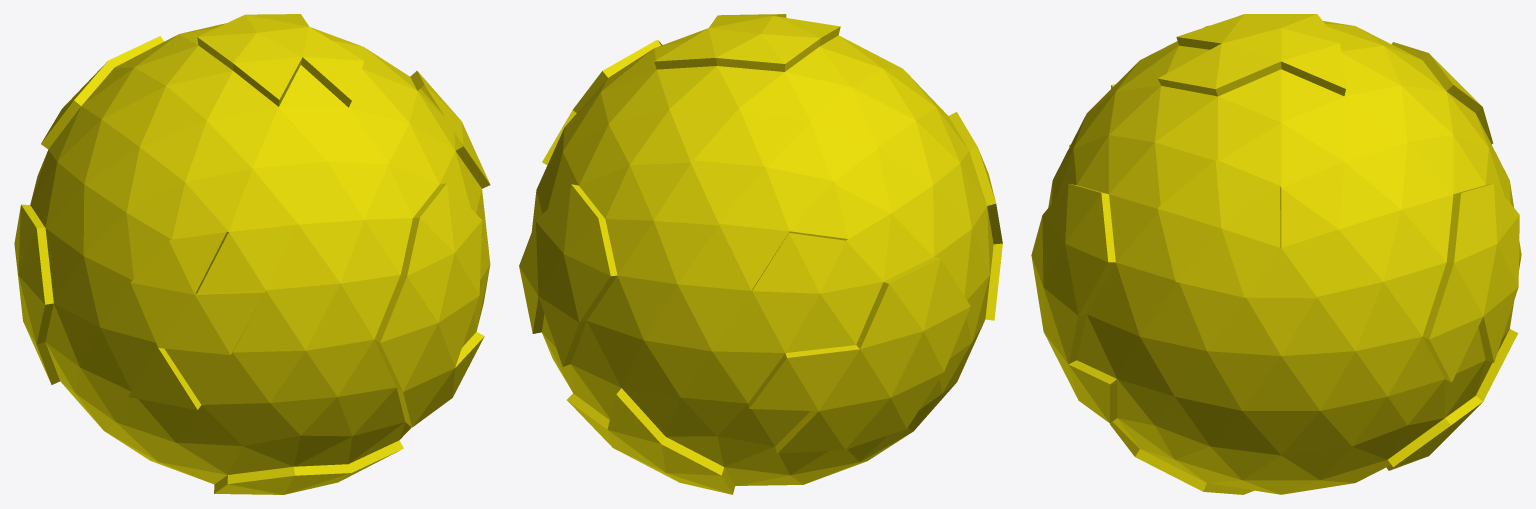
Rendered from YellowPlanet.glb.
3 views of the same model, side by side, from view 1: azimuth 30°, elevation 25°; view 2: azimuth 150°, elevation 25°; view 3: azimuth 270°, elevation 25° (orthographic). The views are drawn at different scales.
Visible parts, largest first — view 1: YellowPlanet; view 2: YellowPlanet; view 3: YellowPlanet.
Part boxes in pixels (box(x1,y1,x2,y2)): YellowPlanet: box(14, 14, 490, 494); YellowPlanet: box(519, 14, 1002, 494); YellowPlanet: box(1031, 14, 1521, 494).
Size of the model in its own units: 9.18 by 9.36 by 9.18.
